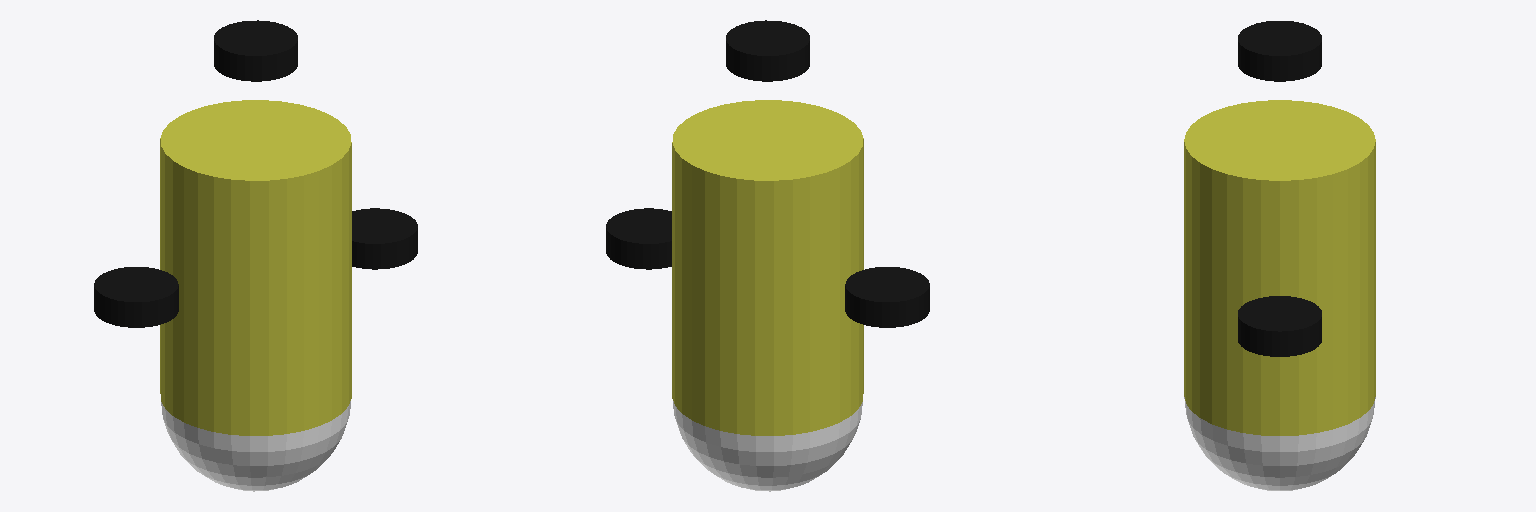
The robot description file, URDF, robot "underwater_robot":
<?xml version="1.0"?>
<robot name="underwater_robot">
  <!-- 材质定义 -->
  <material name="yellow">
    <color rgba="0.8 0.8 0.294118 1.0"/>
  </material>
  
  <material name="black">
    <color rgba="0.117647 0.117647 0.117647 1.0"/>
  </material>
  
  <material name="orange">
    <color rgba="0.8 0.423529 0.0509804 1.0"/>
  </material>
  
  <material name="transparent">
    <color rgba="1.0 1.0 1.0 0.3"/>
  </material>
  
  <material name="white">
    <color rgba="0.8 0.8 0.8 1.0"/>
  </material>

  <!-- 主体 -->
  <link name="base_link">
    <inertial>
      <mass value="363.17"/>
      <origin xyz="0 0 0" rpy="0 0 0"/>
      <inertia ixx="20.0" ixy="0" ixz="0" iyy="20.0" iyz="0" izz="20.0"/>
    </inertial>
    <visual>
      <origin xyz="0 0 0" rpy="0 0 0"/>
      <geometry>
        <cylinder radius="0.34" length="1.0"/>
      </geometry>
      <material name="yellow"/>
    </visual>
    <collision>
      <origin xyz="0 0 0" rpy="0 0 0"/>
      <geometry>
        <cylinder radius="0.34" length="1.0"/>
      </geometry>
    </collision>
  </link>
  
  <!-- 透明圆顶 -->
  <link name="dome">
    <inertial>
      <mass value="10.0"/>
      <origin xyz="0 0 0" rpy="0 0 0"/>
      <inertia ixx="1.0" ixy="0" ixz="0" iyy="1.0" iyz="0" izz="1.0"/>
    </inertial>
    <visual>
      <origin xyz="0 0 0" rpy="0 0 0"/>
      <geometry>
        <sphere radius="0.34"/>
      </geometry>
      <material name="transparent"/>
    </visual>
    <collision>
      <origin xyz="0 0 0" rpy="0 0 0"/>
      <geometry>
        <sphere radius="0.34"/>
      </geometry>
    </collision>
  </link>
  
  <!-- 上锥体 - 正确使用圆锥体几何形状 -->
  <link name="cone">
    <inertial>
      <mass value="5.0"/>
      <origin xyz="0 0 0.15" rpy="0 0 0"/>
      <inertia ixx="0.1" ixy="0" ixz="0" iyy="0.1" iyz="0" izz="0.05"/>
    </inertial>
    <visual>
      <origin xyz="0 0 0" rpy="0 0 0"/>
      <geometry>
        <!-- 使用mesh表示圆锥体 -->
        <!-- <mesh filename="file://cone.stl"/> -->
        <cone radius="0.34" length="0.3"/>
        <!-- 如果没有mesh文件，可以使用以下替代方案：
        在URDF中没有原生的圆锥体支持，所以提供stl/dae文件或使用以下注释中的替代表示 -->
      </geometry>
      <material name="orange"/>
    </visual>
    <collision>
      <origin xyz="0 0 0.15" rpy="0 0 0"/>
      <geometry>
        <cone radius="0.34" length="0.3"/>
      </geometry>
    </collision>
  </link>
  
  <!-- 左侧推进器 -->
  <link name="left_thruster">
    <inertial>
      <mass value="2.0"/>
      <origin xyz="0 0 0" rpy="0 0 0"/>
      <inertia ixx="0.01" ixy="0" ixz="0" iyy="0.01" iyz="0" izz="0.01"/>
    </inertial>
    <visual>
      <origin xyz="0 0 0" rpy="0 0 0"/>
      <geometry>
        <cylinder radius="0.15" length="0.1"/>
      </geometry>
      <material name="black"/>
    </visual>
    <collision>
      <origin xyz="0 0 0" rpy="0 0 0"/>
      <geometry>
        <cylinder radius="0.15" length="0.1"/>
      </geometry>
    </collision>
  </link>
  
  <!-- 右侧推进器 -->
  <link name="right_thruster">
    <inertial>
      <mass value="2.0"/>
      <origin xyz="0 0 0" rpy="0 0 0"/>
      <inertia ixx="0.01" ixy="0" ixz="0" iyy="0.01" iyz="0" izz="0.01"/>
    </inertial>
    <visual>
      <origin xyz="0 0 0" rpy="0 0 0"/>
      <geometry>
        <cylinder radius="0.15" length="0.1"/>
      </geometry>
      <material name="black"/>
    </visual>
    <collision>
      <origin xyz="0 0 0" rpy="0 0 0"/>
      <geometry>
        <cylinder radius="0.15" length="0.1"/>
      </geometry>
    </collision>
  </link>
  
  <!-- 顶部推进器 - 改进版万向节实现 -->
  <!-- 用于实现万向节的中间链接 -->
  <link name="end_joint1_link">
    <inertial>
      <mass value="0.1"/>
      <origin xyz="0 0 0" rpy="0 0 0"/>
      <inertia ixx="0.001" ixy="0" ixz="0" iyy="0.001" iyz="0" izz="0.001"/>
    </inertial>
  </link>
  
  <link name="end_joint2_link">
    <inertial>
      <mass value="0.1"/>
      <origin xyz="0 0 0" rpy="0 0 0"/>
      <inertia ixx="0.001" ixy="0" ixz="0" iyy="0.001" iyz="0" izz="0.001"/>
    </inertial>
  </link>
  
  <!-- 末端执行器（推进器） -->
  <link name="end_thruster">
    <inertial>
      <mass value="2.0"/>
      <origin xyz="0 0 0" rpy="0 0 0"/>
      <inertia ixx="0.01" ixy="0" ixz="0" iyy="0.01" iyz="0" izz="0.01"/>
    </inertial>
    <visual>
      <origin xyz="0 0 0" rpy="0 0 0"/>
      <geometry>
        <cylinder radius="0.15" length="0.1"/>
      </geometry>
      <material name="black"/>
    </visual>
    <collision>
      <origin xyz="0 0 0" rpy="0 0 0"/>
      <geometry>
        <cylinder radius="0.15" length="0.1"/>
      </geometry>
    </collision>
  </link>
  
  <!-- 连接圆顶到主体 -->
  <joint name="dome_joint" type="fixed">
    <parent link="base_link"/>
    <child link="dome"/>
    <origin xyz="0 0 -0.5" rpy="0 0 0"/>
  </joint>
  
  <!-- 连接锥体到主体 -->
  <joint name="cone_joint" type="fixed">
    <parent link="base_link"/>
    <child link="cone"/>
    <origin xyz="0 0 0.5" rpy="0 0 0"/>
  </joint>
  
  <!-- 左推进器铰链关节 -->
  <joint name="left_thruster_joint" type="revolute">
    <parent link="base_link"/>
    <child link="left_thruster"/>
    <origin xyz="-0.49 0 0" rpy="0 0 0"/>
    <axis xyz="1 0 0"/>
    <limit lower="-3.14159" upper="3.14159" effort="100" velocity="10"/>
    <dynamics damping="0.1" friction="0.1"/>
  </joint>
  
  <!-- 右推进器铰链关节 -->
  <joint name="right_thruster_joint" type="revolute">
    <parent link="base_link"/>
    <child link="right_thruster"/>
    <origin xyz="0.49 0 0" rpy="0 0 0"/>
    <axis xyz="1 0 0"/>
    <limit lower="-3.14159" upper="3.14159" effort="100" velocity="10"/>
    <dynamics damping="0.1" friction="0.1"/>
  </joint>
  
  <!-- 万向节实现 - 使用3个串联旋转关节 -->
  <!-- 第一个关节，绕X轴旋转 -->
  <joint name="end_joint1" type="revolute">
    <parent link="base_link"/>
    <child link="end_joint1_link"/>
    <origin xyz="0 0 0.85" rpy="0 0 0"/> <!-- raw表示左右转动 -->>
    <axis xyz="1 0 0"/>
    <limit lower="-3.14159" upper="3.14159" effort="100" velocity="10"/>
    <dynamics damping="0.1" friction="0.1"/>
  </joint>
  
  <!-- 第二个关节，绕Y轴旋转 -->
  <joint name="end_joint2" type="revolute">
    <parent link="end_joint1_link"/>
    <child link="end_joint2_link"/>
    <origin xyz="0 0 0" rpy="0 0 0"/> <!-- pitch表示左右转动 -->
    <axis xyz="0 1 0"/>
    <limit lower="-1.5708" upper="1.5708" effort="100" velocity="10"/>
    <dynamics damping="0.1" friction="0.1"/>
  </joint>
  
  <!-- 第三个关节，绕Z轴旋转 -->
  <joint name="end_joint3" type="revolute">
    <parent link="end_joint2_link"/>
    <child link="end_thruster"/>
    <origin xyz="0 0 0" rpy="0 0 0"/>
    <axis xyz="0 0 1"/>
    <limit lower="-3.14159" upper="3.14159" effort="100" velocity="10"/>
    <dynamics damping="0.1" friction="0.1"/>
  </joint>

  <!-- 传感器 -->
  <!-- <gazebo>
    <plugin name="gps_controller" filename="libhector_gazebo_ros_gps.so">
      <bodyName>base_link</bodyName>
      <frameId>gps_link</frameId>
      <topicName>/gps/fix</topicName>
      <updateRate>10.0</updateRate>
    </plugin>
    
    <plugin name="imu_controller" filename="libhector_gazebo_ros_imu.so">
      <bodyName>base_link</bodyName>
      <frameId>base_link</frameId>
      <topicName>/imu/data</topicName>
      <updateRate>10.0</updateRate>
    </plugin>
  </gazebo> -->
  
  <!-- 电机执行器 -->
  <transmission name="left_motor_trans">
    <type>transmission_interface/SimpleTransmission</type>
    <joint name="left_thruster_joint">
      <hardwareInterface>hardware_interface/EffortJointInterface</hardwareInterface>
    </joint>
    <actuator name="left_motor">
      <hardwareInterface>hardware_interface/EffortJointInterface</hardwareInterface>
      <mechanicalReduction>1</mechanicalReduction>
    </actuator>
  </transmission>

  <transmission name="right_motor_trans">
    <type>transmission_interface/SimpleTransmission</type>
    <joint name="right_thruster_joint">
      <hardwareInterface>hardware_interface/EffortJointInterface</hardwareInterface>
    </joint>
    <actuator name="right_motor">
      <hardwareInterface>hardware_interface/EffortJointInterface</hardwareInterface>
      <mechanicalReduction>1</mechanicalReduction>
    </actuator>
  </transmission>

  <!-- 万向节三个电机的传动系统 -->
  <transmission name="end_motor_trans1">
    <type>transmission_interface/SimpleTransmission</type>
    <joint name="end_joint1">
      <hardwareInterface>hardware_interface/EffortJointInterface</hardwareInterface>
    </joint>
    <actuator name="end_servo_motor_1">
      <hardwareInterface>hardware_interface/EffortJointInterface</hardwareInterface>
      <mechanicalReduction>1</mechanicalReduction>
    </actuator>
  </transmission>

  <transmission name="end_motor_trans2">
    <type>transmission_interface/SimpleTransmission</type>
    <joint name="end_joint2">
      <hardwareInterface>hardware_interface/EffortJointInterface</hardwareInterface>
    </joint>
    <actuator name="end_servo_motor_2">
      <hardwareInterface>hardware_interface/EffortJointInterface</hardwareInterface>
      <mechanicalReduction>1</mechanicalReduction>
    </actuator>
  </transmission>

  <transmission name="end_motor_trans3">
    <type>transmission_interface/SimpleTransmission</type>
    <joint name="end_joint3">
      <hardwareInterface>hardware_interface/EffortJointInterface</hardwareInterface>
    </joint>
    <actuator name="end_servo_motor_3">
      <hardwareInterface>hardware_interface/EffortJointInterface</hardwareInterface>
      <mechanicalReduction>1</mechanicalReduction>
    </actuator>
  </transmission>
</robot>

--- What the picture shows (computed from the rendered views, not written in the file) ---
Views: 3 orthographic renders of the robot side by side, from view 1: azimuth 30°, elevation 25°; view 2: azimuth 150°, elevation 25°; view 3: azimuth 270°, elevation 25°.
Robot: underwater_robot — 8 links, 7 joints (5 revolute, 2 fixed); root link base_link; default pose: every joint at zero.
Links seen in each view (by area): view 1: base_link, dome, left_thruster, end_thruster, right_thruster; view 2: base_link, dome, left_thruster, end_thruster, right_thruster; view 3: base_link, dome, right_thruster, end_thruster.
Boxes of the visible links, <box> form: base_link: <box>160,100,351,435</box>; dome: <box>161,401,350,491</box>; left_thruster: <box>94,267,178,327</box>; end_thruster: <box>214,20,297,81</box>; right_thruster: <box>352,208,417,269</box>; base_link: <box>672,100,863,435</box>; dome: <box>673,401,862,491</box>; left_thruster: <box>845,267,929,327</box>; end_thruster: <box>726,20,809,81</box>; right_thruster: <box>606,208,671,269</box>; base_link: <box>1184,100,1375,435</box>; dome: <box>1184,397,1375,490</box>; right_thruster: <box>1238,296,1321,356</box>; end_thruster: <box>1238,21,1321,81</box>.
Size in the robot's own frame: 1.28 by 0.68 by 1.74 metres.
Geometry: primitives only (box / cylinder / sphere), no mesh files.
